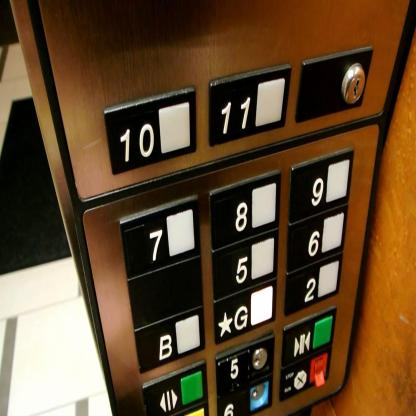10: (103, 85, 197, 180)
11: (206, 60, 293, 148)
2: (282, 248, 344, 315)
5: (210, 223, 280, 302), (214, 332, 275, 398)
6: (285, 198, 349, 273)
7: (119, 193, 202, 280)
8: (209, 168, 282, 250)
9: (288, 146, 354, 224)
B: (134, 303, 205, 374)
bt_keyhole: (294, 44, 372, 124)
close: (280, 303, 338, 368)
open: (141, 357, 208, 415)
sG: (212, 276, 280, 345)
stop: (279, 348, 333, 406)
